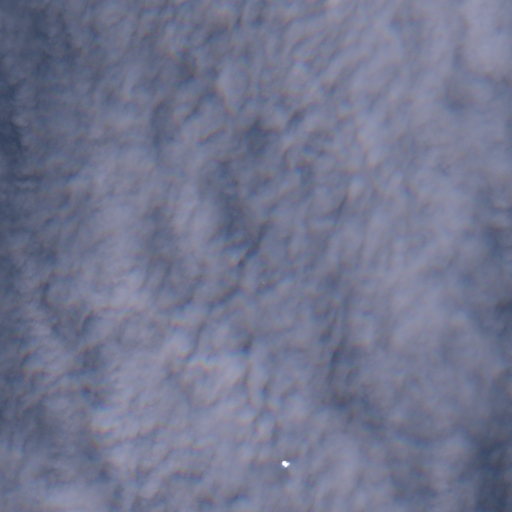Iceberg: (282, 461, 289, 467)
